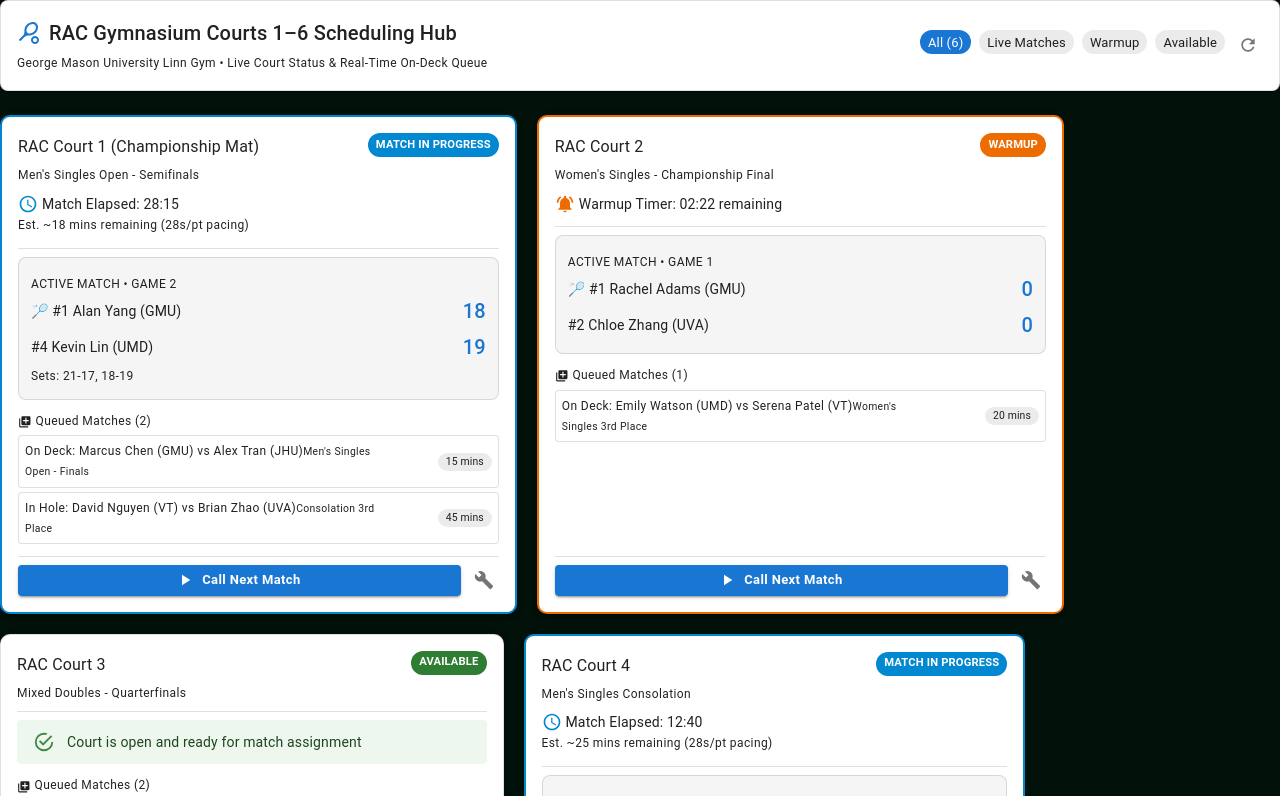
RAC Courts 1-6 Queue Viewer Component › filters courts by status chips
# Click Available chip
Click the button "Available": (1190, 42) [1156,30,1225,54]
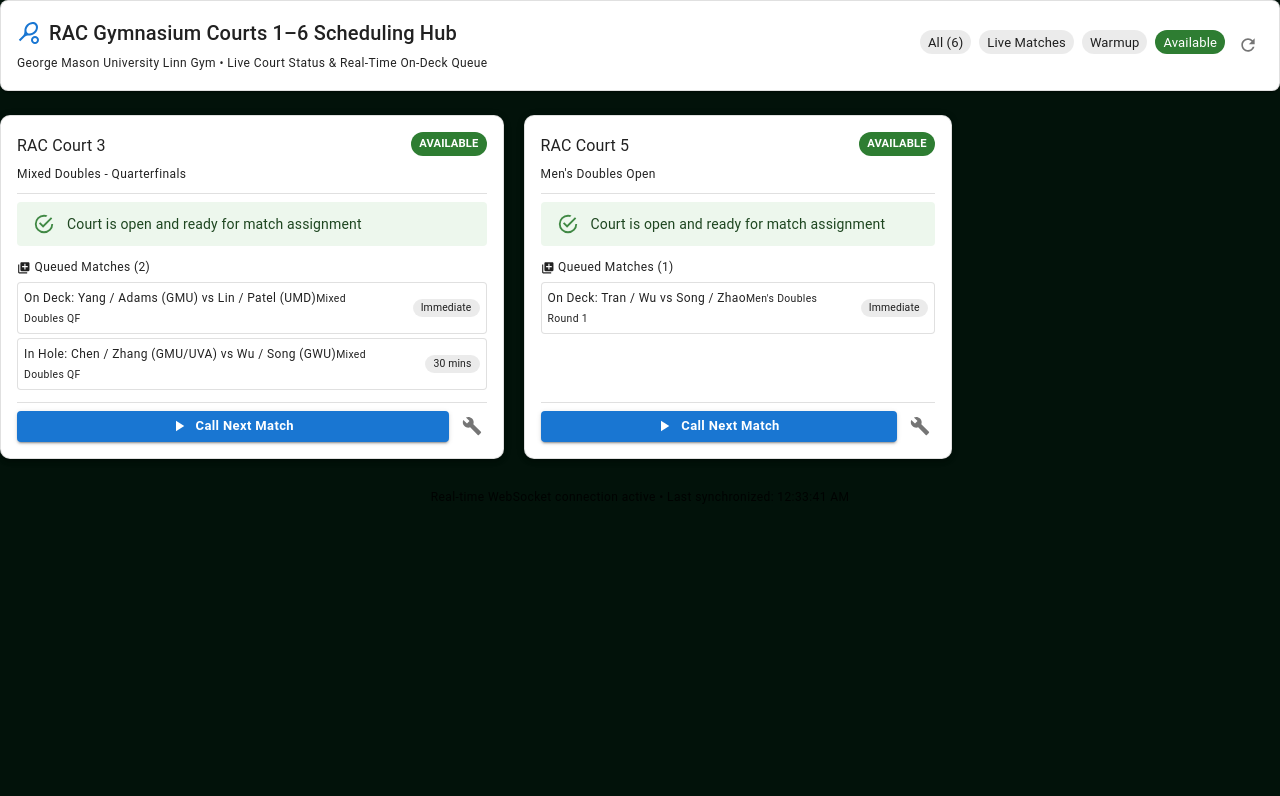
Expected: the element with test id "court-card-3" is shown, [0,115,504,459]
Now the element with test id "court-card-1" is gone
# Click All (6)
Click the button "All (6)": (946, 42) [920,30,971,54]
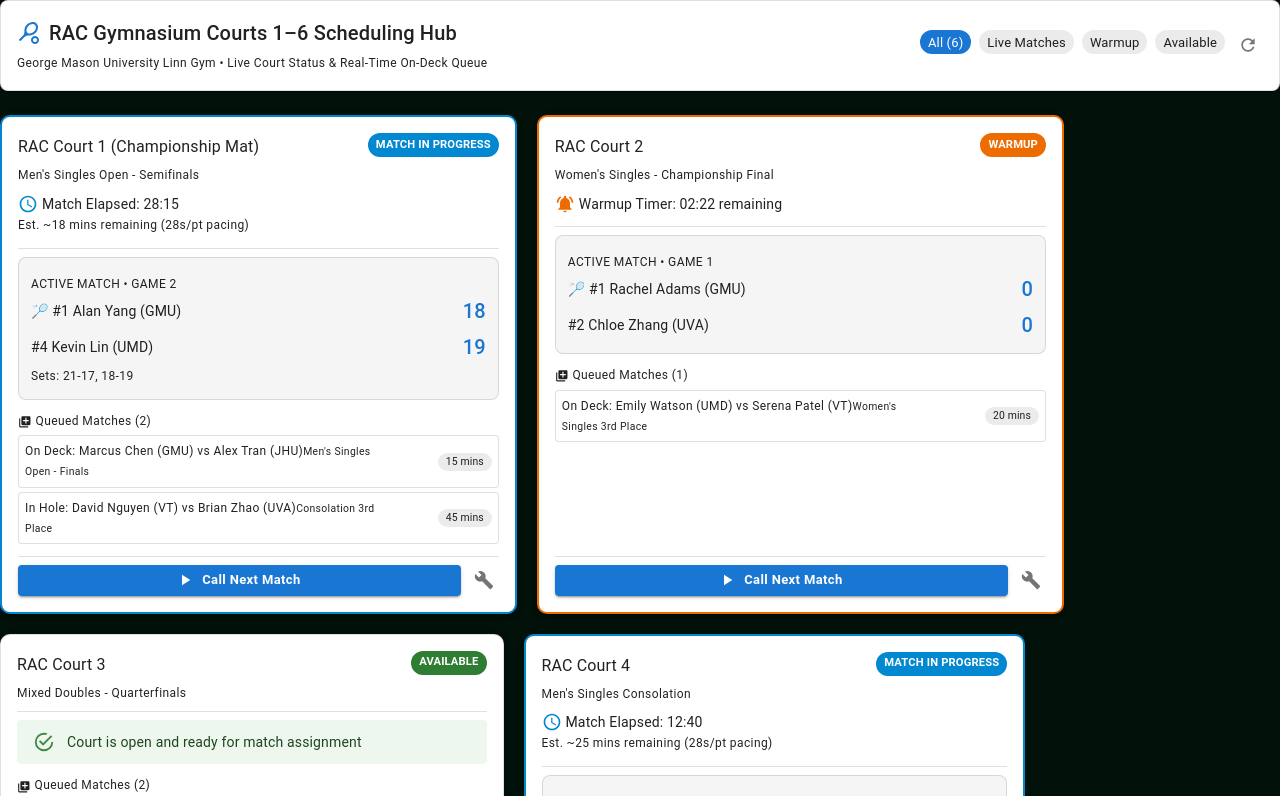
Now the element with test id "court-card-1" is shown, box [0,115,517,614]
